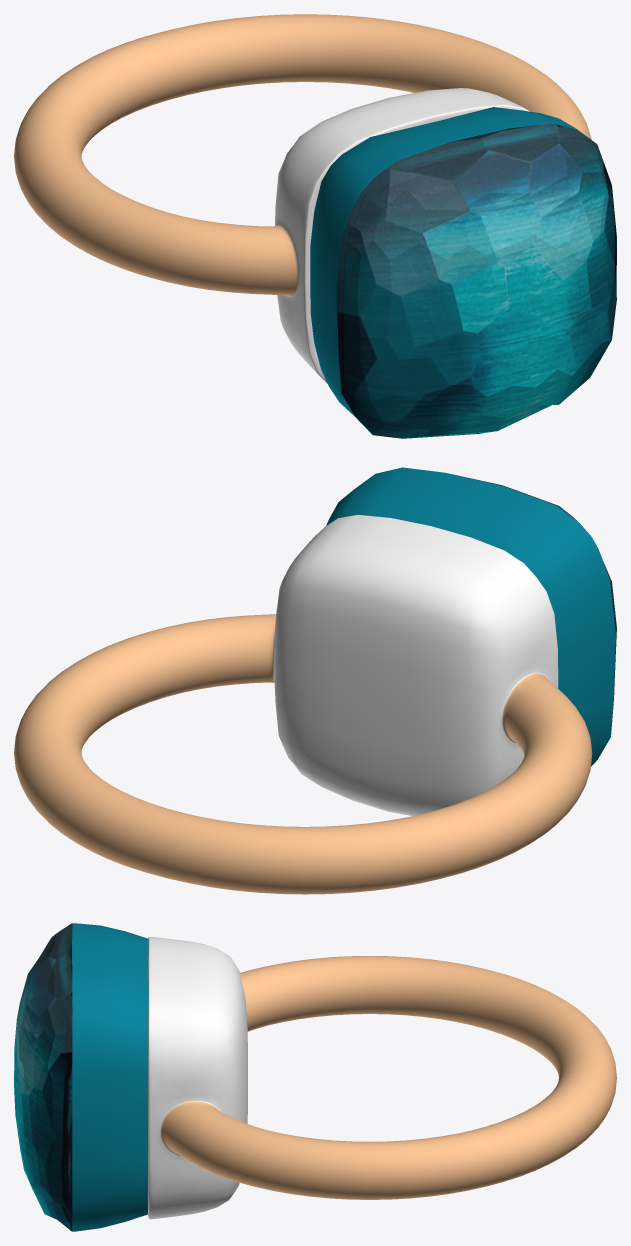
File: MaxiLondonBlue.glb
3 views of the same model, one above another, from view 1: azimuth 30°, elevation 25°; view 2: azimuth 150°, elevation 25°; view 3: azimuth 270°, elevation 25° (orthographic). The views are drawn at different scales.
Visible parts, largest first — view 1: Gem, Metal; view 2: Metal, Gem; view 3: Metal, Gem.
Part boxes in pixels (x1,y1,x2,y2): Gem: (310, 107, 616, 438); Metal: (14, 14, 591, 383); Metal: (14, 514, 592, 894); Gem: (326, 467, 616, 766); Metal: (148, 937, 616, 1219); Gem: (14, 923, 148, 1231).
Bounding box in the file's own units: 0.0412 × 0.0234 × 0.0498.
Materials: 4 (1 with a texture image).
